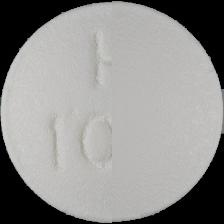21695-208: (0, 0, 224, 224)
